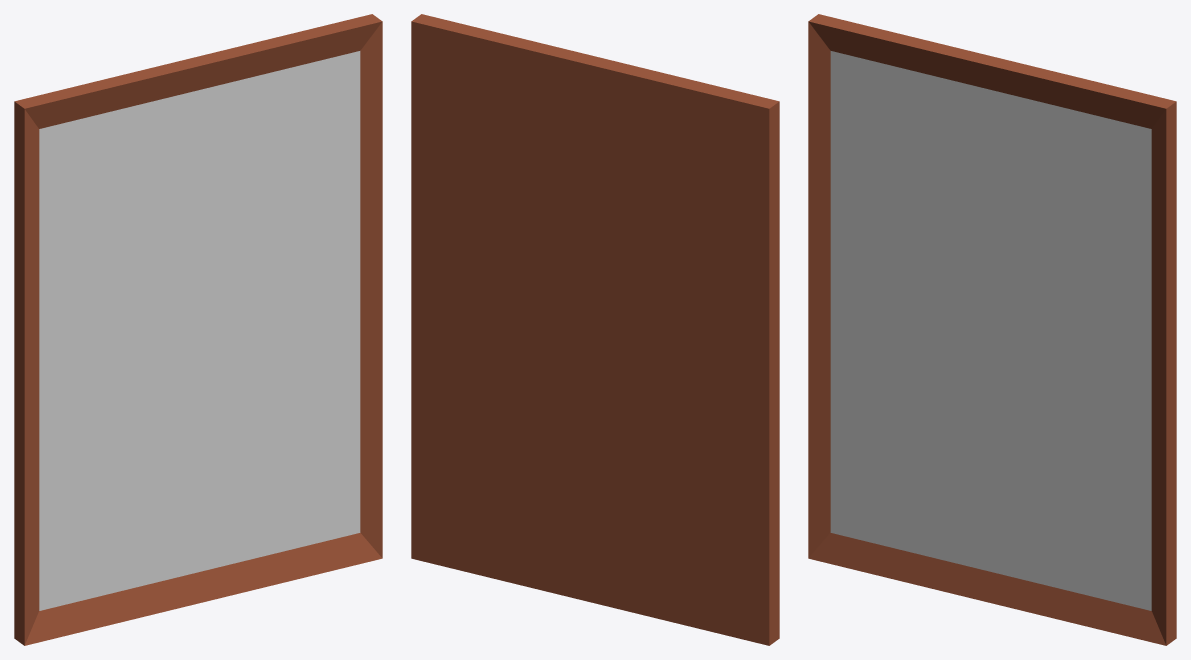
File: frame_small.fbx
The picture shows the model from 3 angles, left to right: view 1: azimuth 30°, elevation 25°; view 2: azimuth 150°, elevation 25°; view 3: azimuth 330°, elevation 25°; orthographic projection.
Parts seen in each view (by area): view 1: frame_small; view 2: frame_small; view 3: frame_small.
Part boxes in pixels (x1,y1,x2,y2): frame_small: [14, 14, 382, 645]; frame_small: [411, 14, 779, 645]; frame_small: [808, 14, 1176, 645].
Bounding box in the file's own units: 0.1708 × 0.2448 × 0.00842.
